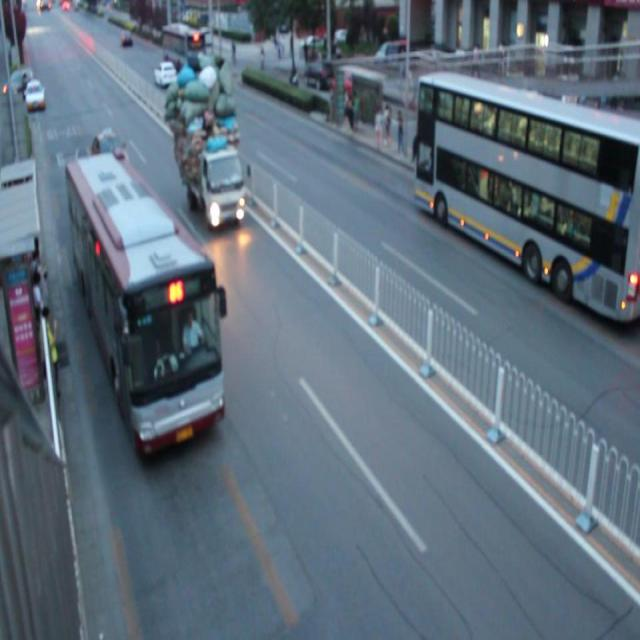bus: (174, 65, 244, 229)
car: (90, 128, 131, 174), (154, 61, 179, 90)
van: (416, 74, 640, 318), (68, 160, 224, 457)
